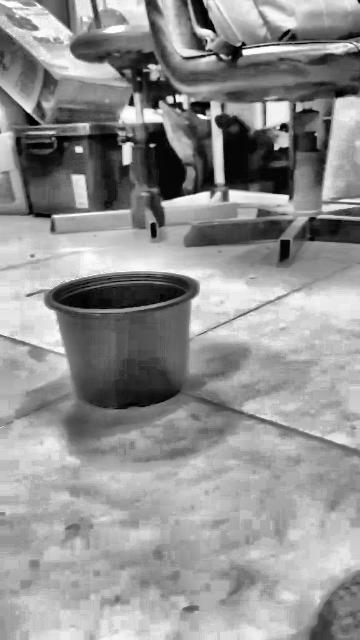pot: (46, 271, 197, 409)
